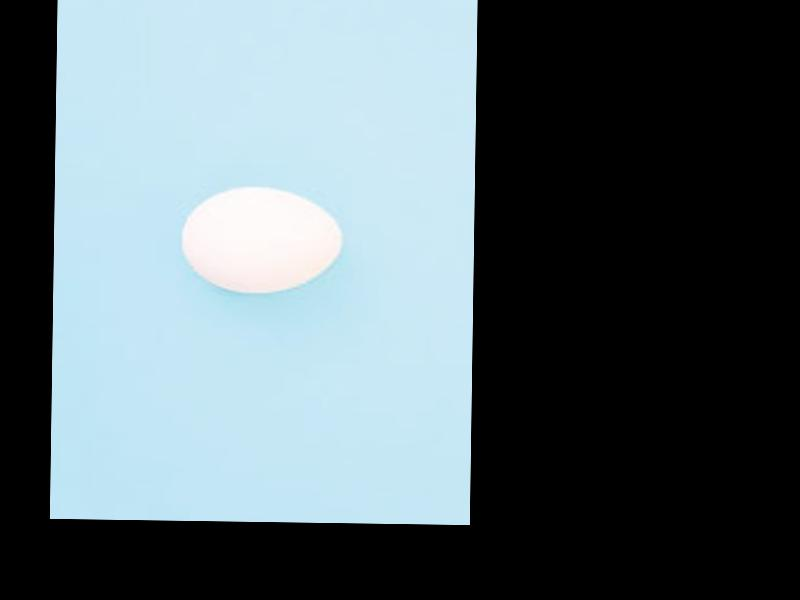Eggs: (181, 187, 346, 295)
